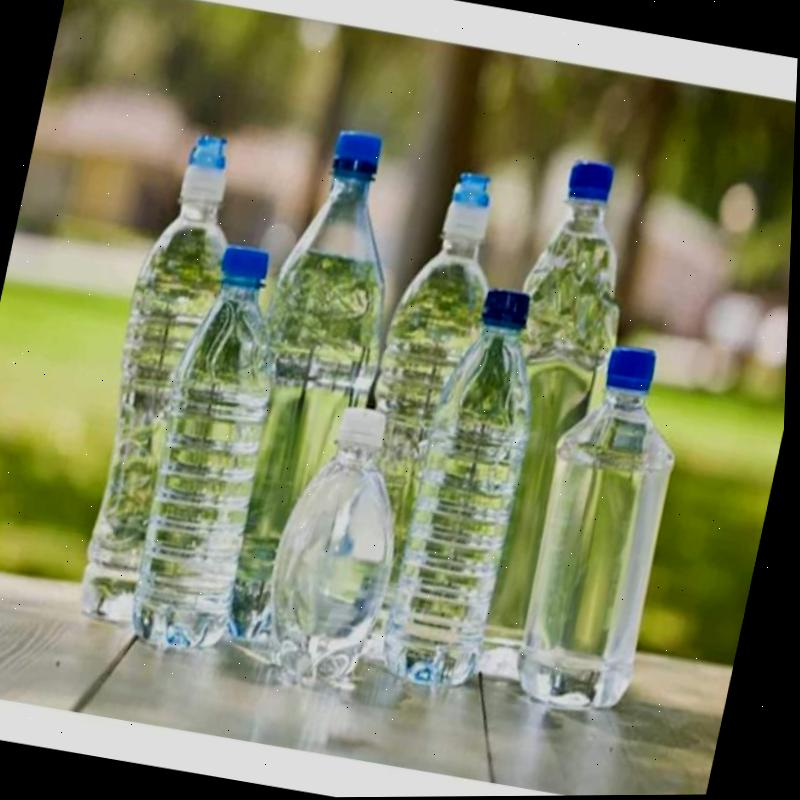botella: (205, 123, 424, 654), (447, 154, 655, 686), (323, 165, 515, 677), (70, 126, 252, 630), (126, 240, 306, 658), (508, 338, 702, 719), (381, 283, 559, 693), (253, 397, 428, 696)
